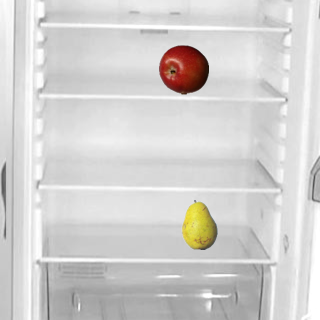Apple Braeburn: (158, 44, 208, 94)
Pear Monster: (174, 199, 224, 249)
